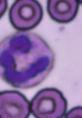N: (0, 30, 55, 88)
